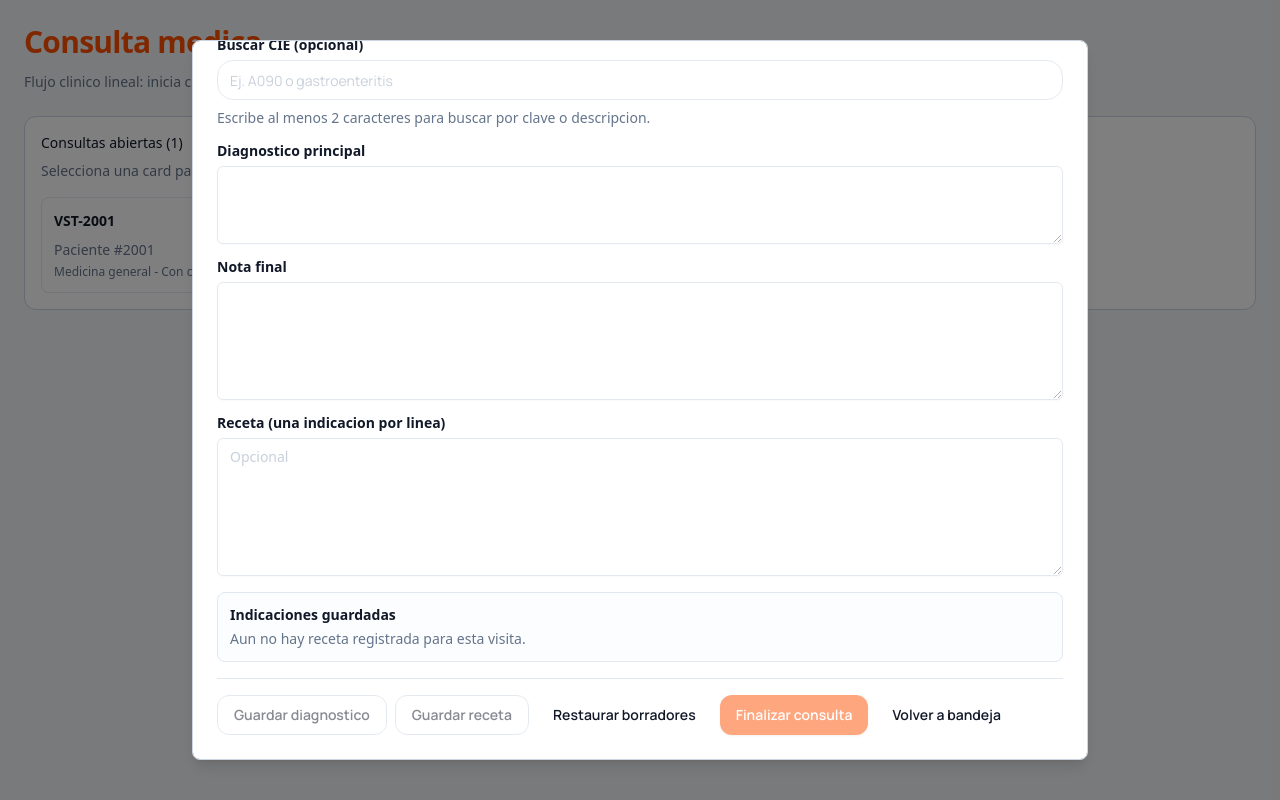
DoctorConsultationPage UI › permite cerrar modal y volver a bandeja
(page scrolled)
Step 1. Click the button "Volver a bandeja" → (947, 715), box [876,695,1017,735]
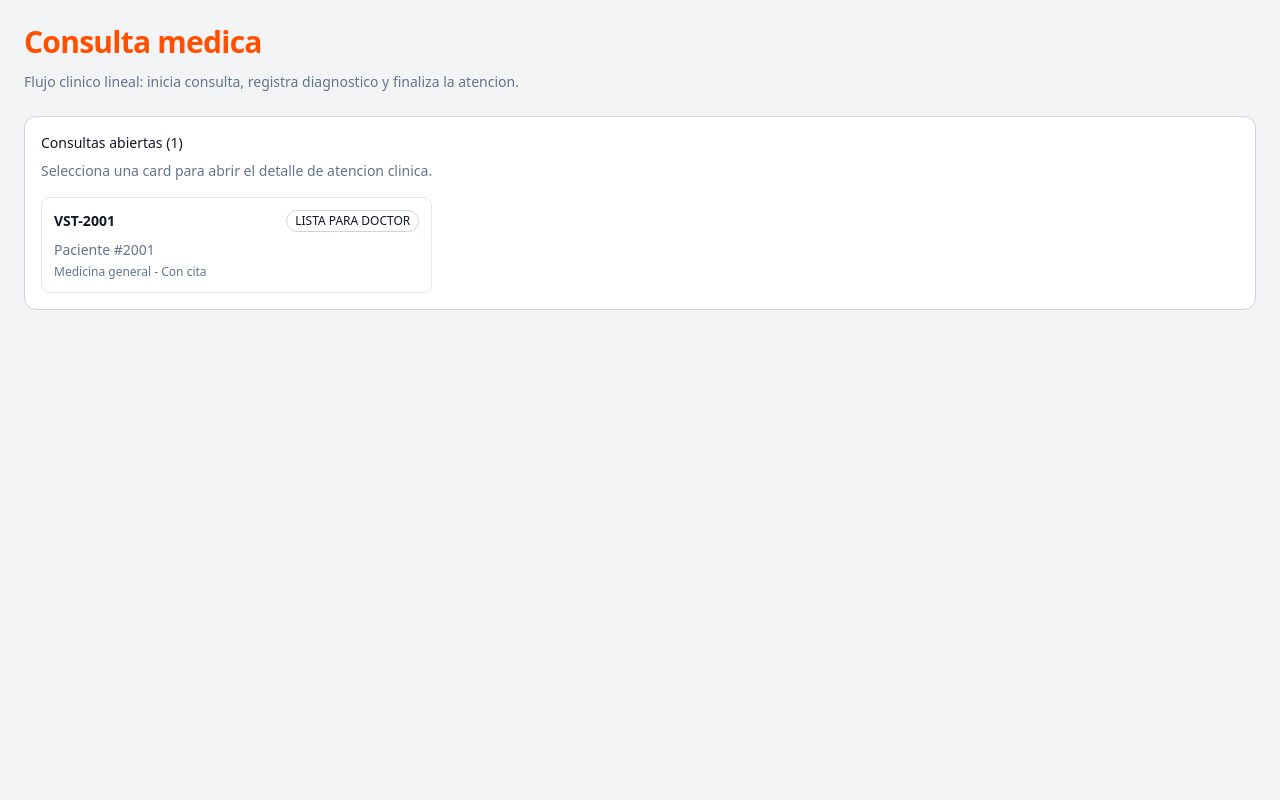
expect the dialog with test id "doctor-consultation-modal" is gone: met
